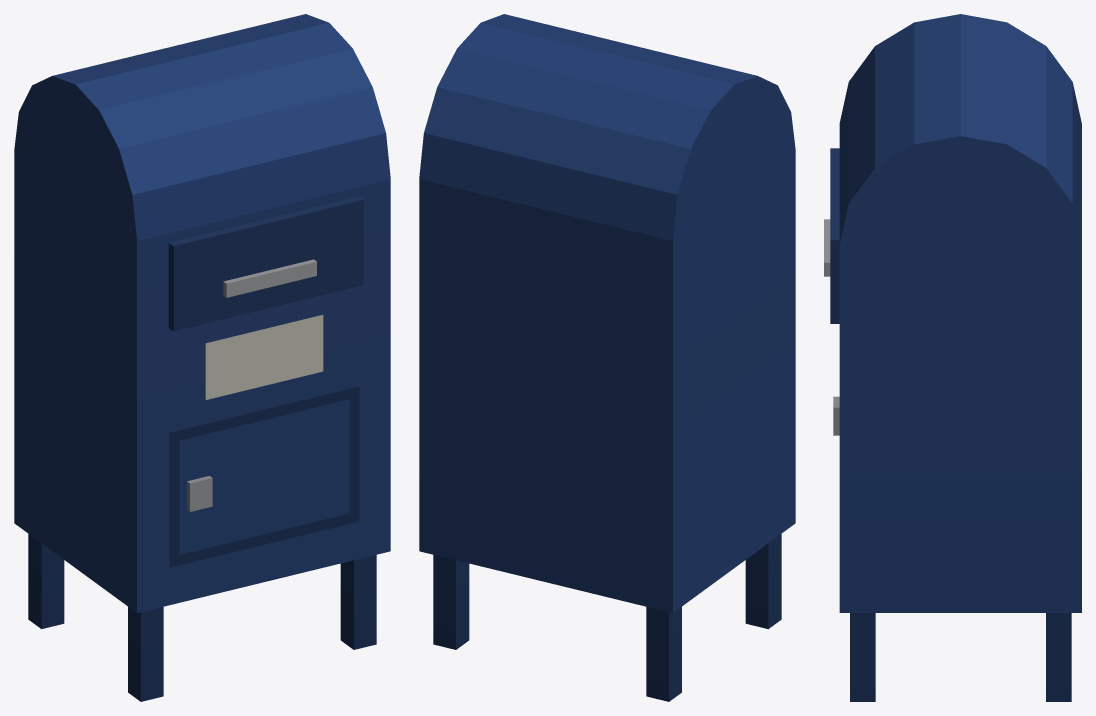
The model's file is street.mailbox.blue.glb.
3 views of the same model, side by side, from view 1: azimuth 30°, elevation 25°; view 2: azimuth 150°, elevation 25°; view 3: azimuth 270°, elevation 25° (orthographic).
Parts seen in each view (by area): view 1: street_mailbox_blue; view 2: street_mailbox_blue; view 3: street_mailbox_blue.
Part boxes in pixels (left/top/right/bottom): street_mailbox_blue: left=14, top=14, right=390, bottom=701; street_mailbox_blue: left=419, top=14, right=795, bottom=701; street_mailbox_blue: left=824, top=14, right=1081, bottom=701.
Size of what is drawn, in the model's own units: 0.56 by 1.22 by 0.5.
